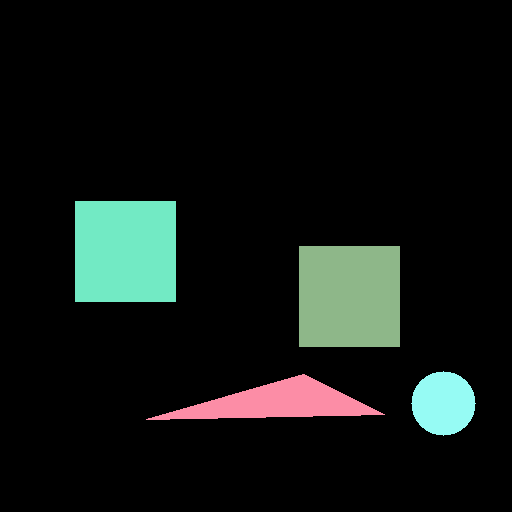circle: (411, 371, 475, 435)
square: (299, 246, 399, 346), (75, 201, 175, 301)
triangle: (146, 374, 384, 419)
